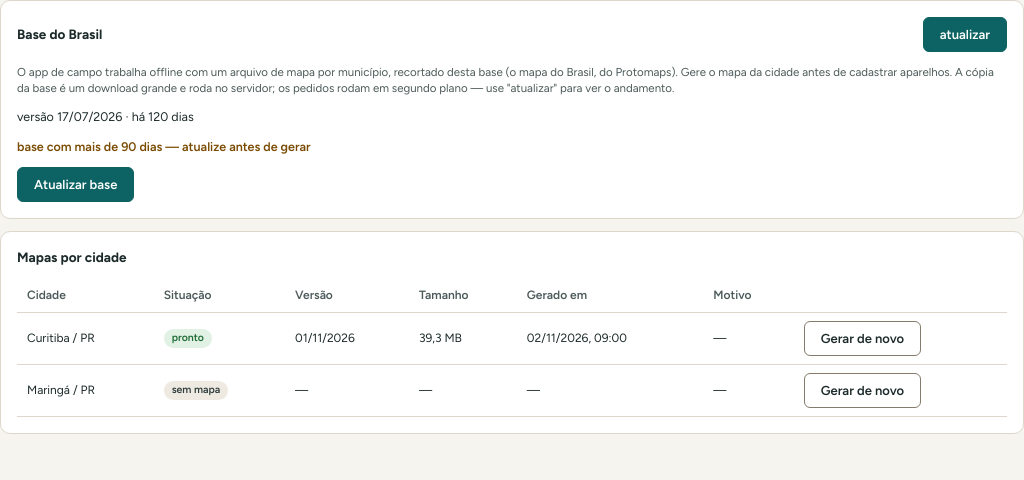
Test: FieldMaps › base com mais de 90 dias: aviso; atualizar base pede confirmação e manda a mutation
Expected: the text "base com mais de 90 dias — atualize antes de gerar" is shown, top-left (17, 139), bottom-right (311, 154)
Expected: the text "versão 17/07/2026 · há 120 dias" is shown, top-left (17, 109), bottom-right (194, 124)
What coordinates should you click on to do the following:
click the button "Atualizar base"
I would click on:
 (76, 185)
Its box is top-left (17, 167), bottom-right (134, 202).
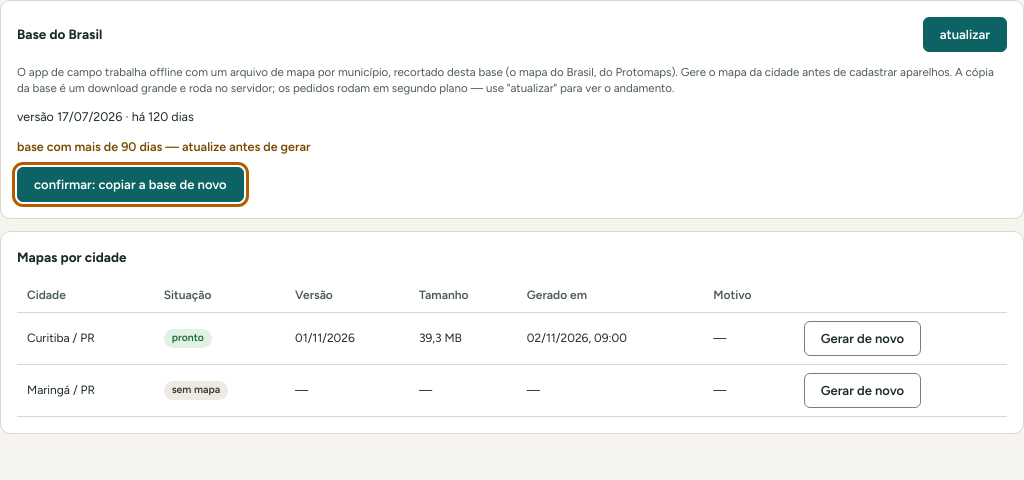
What coordinates should you click on to do the following:
click the button "confirmar: copiar a base de novo"
I would click on:
 (130, 185)
Its box is top-left (17, 167), bottom-right (244, 202).
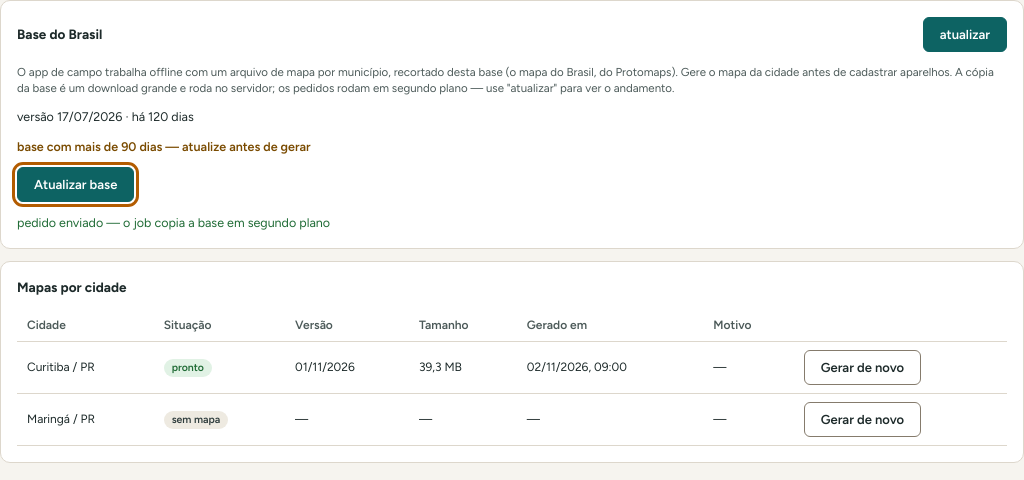
Result: the message reads "pedido enviado — o job copia a base em segundo plano" at top-left (17, 215), bottom-right (330, 230)
